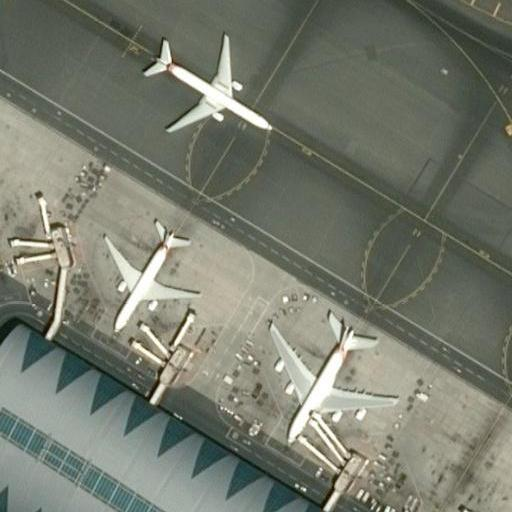Aircraft: (254, 304, 400, 448), (128, 18, 281, 136), (90, 204, 204, 335)
